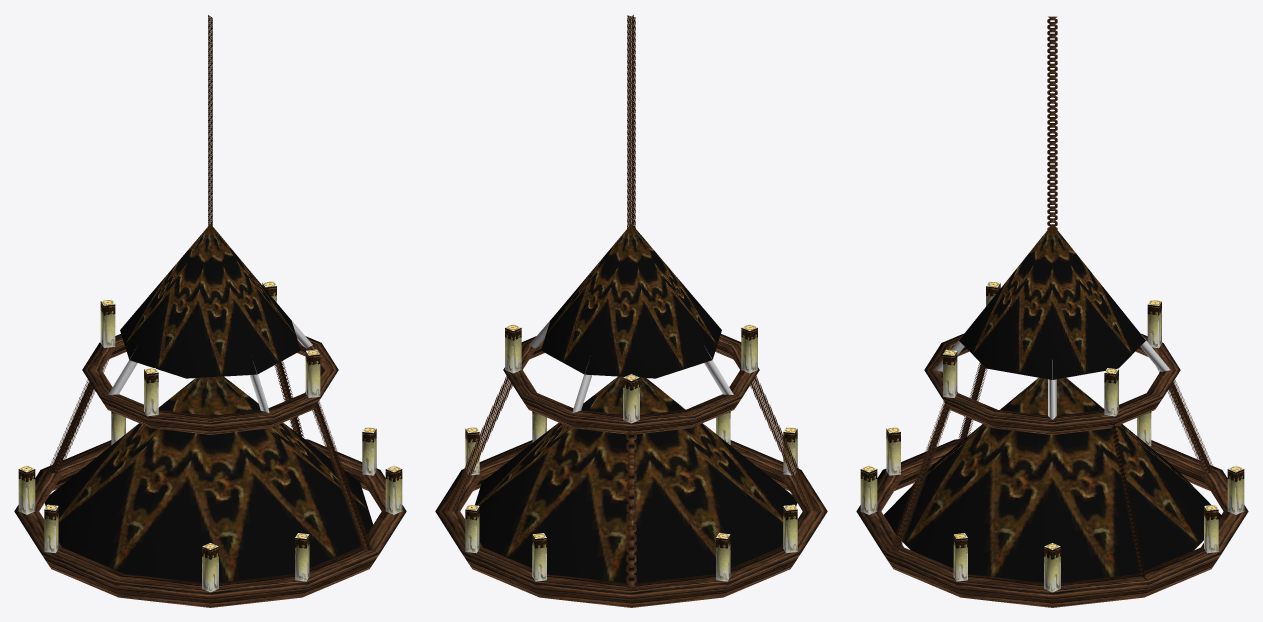
File: INST_LT_CHANDELIER.obj
3 renders of one model, left to right at view 1: azimuth 30°, elevation 25°; view 2: azimuth 150°, elevation 25°; view 3: azimuth 270°, elevation 25°, orthographic.
Parts seen in each view (by area): view 1: nst_Chandelier_; view 2: nst_Chandelier_; view 3: nst_Chandelier_.
Part boxes in pixels (left/top/right/bottom): nst_Chandelier_: left=14, top=15, right=406, bottom=607; nst_Chandelier_: left=435, top=15, right=827, bottom=607; nst_Chandelier_: left=856, top=16, right=1248, bottom=607.
Bounding box in the file's own units: 212 × 328 × 212.
